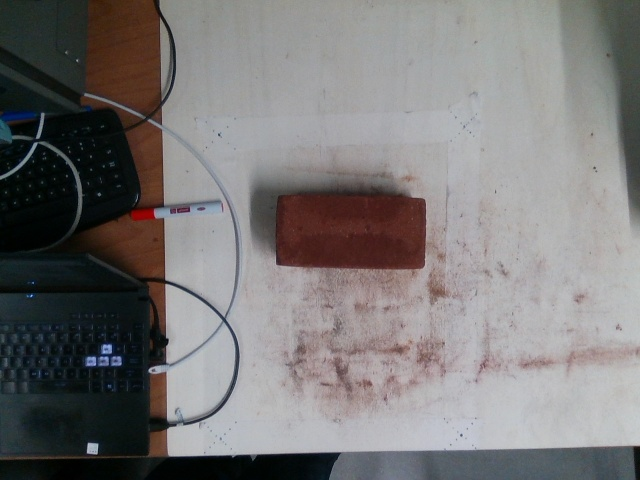brick: (275, 197, 426, 268)
